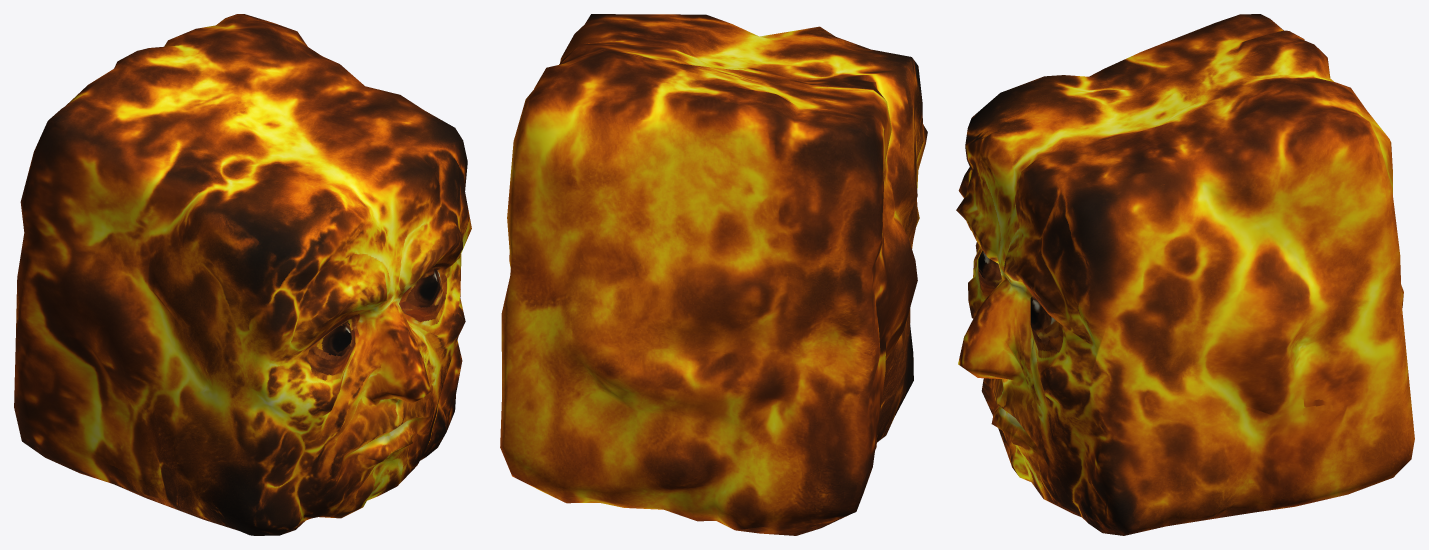
Rendered from blaze_head_single_1500.glb.
3 renders of one model, left to right at view 1: azimuth 30°, elevation 25°; view 2: azimuth 150°, elevation 25°; view 3: azimuth 270°, elevation 25°, orthographic. The views are drawn at different scales.
Size of the model in its own units: 0.8701 by 0.8979 by 0.9167.
1 material, 1 textured.
